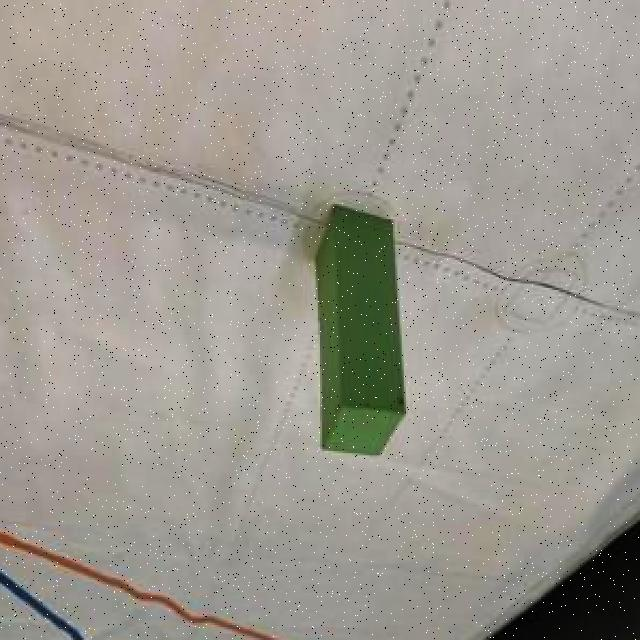greenbox: (316, 204, 406, 456)
